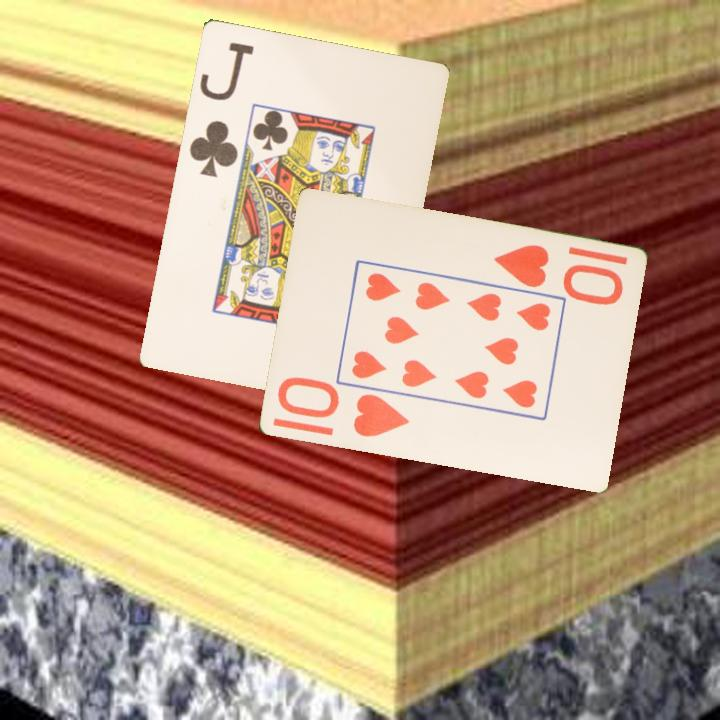10h: (273, 376, 412, 440), (489, 241, 626, 305)
Jc: (185, 38, 256, 179)
